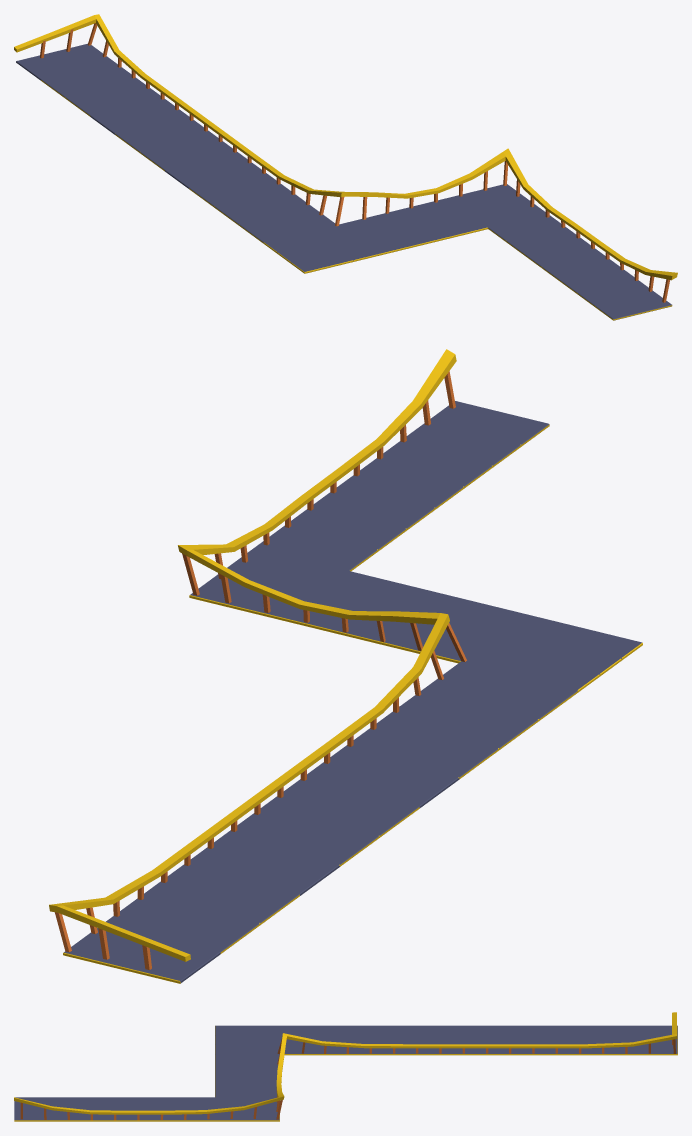
The model's file is walkway_sty.fbx.
3 views of the same model, one above another, from view 1: azimuth 30°, elevation 25°; view 2: azimuth 150°, elevation 25°; view 3: azimuth 270°, elevation 25° (orthographic). The views are drawn at different scales.
Visible parts, largest first — view 1: ElevatedWalkway.001, ElevatedWalkway; view 2: ElevatedWalkway.001, ElevatedWalkway; view 3: ElevatedWalkway.001, ElevatedWalkway.
Part boxes in pixels (left/top/right/bottom): ElevatedWalkway.001: left=16, top=43, right=672, bottom=320; ElevatedWalkway: left=14, top=14, right=677, bottom=302; ElevatedWalkway.001: left=63, top=401, right=642, bottom=983; ElevatedWalkway: left=49, top=349, right=466, bottom=969; ElevatedWalkway.001: left=14, top=1025, right=677, bottom=1121; ElevatedWalkway: left=14, top=1012, right=676, bottom=1120.
Bounding box in the file's own units: 1429 × 185 × 4083.
